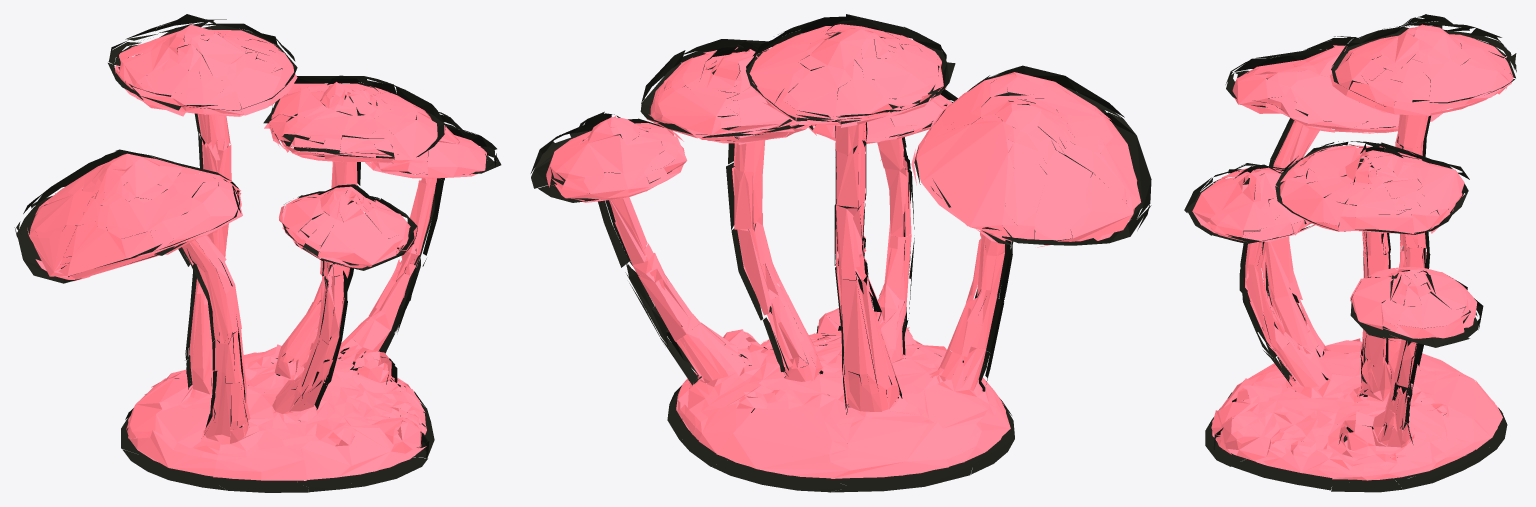
Rendered from df_v2_mushroom_cluster_small_b_a.glb.
3 views of the same model, side by side, from view 1: azimuth 30°, elevation 25°; view 2: azimuth 150°, elevation 25°; view 3: azimuth 270°, elevation 25° (orthographic). The views are drawn at different scales.
Parts seen in each view (by area): view 1: mushroom_cluster_small_b_mesh_01, mushroom_cluster_small_b_mesh_01_ink_outline; view 2: mushroom_cluster_small_b_mesh_01, mushroom_cluster_small_b_mesh_01_ink_outline; view 3: mushroom_cluster_small_b_mesh_01, mushroom_cluster_small_b_mesh_01_ink_outline.
Part boxes in pixels (x1,y1,x2,y2): mushroom_cluster_small_b_mesh_01: (27,24,486,480); mushroom_cluster_small_b_mesh_01_ink_outline: (14,14,501,492); mushroom_cluster_small_b_mesh_01: (546,24,1140,478); mushroom_cluster_small_b_mesh_01_ink_outline: (530,14,1151,492); mushroom_cluster_small_b_mesh_01: (1192,24,1513,480); mushroom_cluster_small_b_mesh_01_ink_outline: (1184,14,1516,492).
Size of the model in its own units: 0.9442 by 0.7263 by 0.5735.
